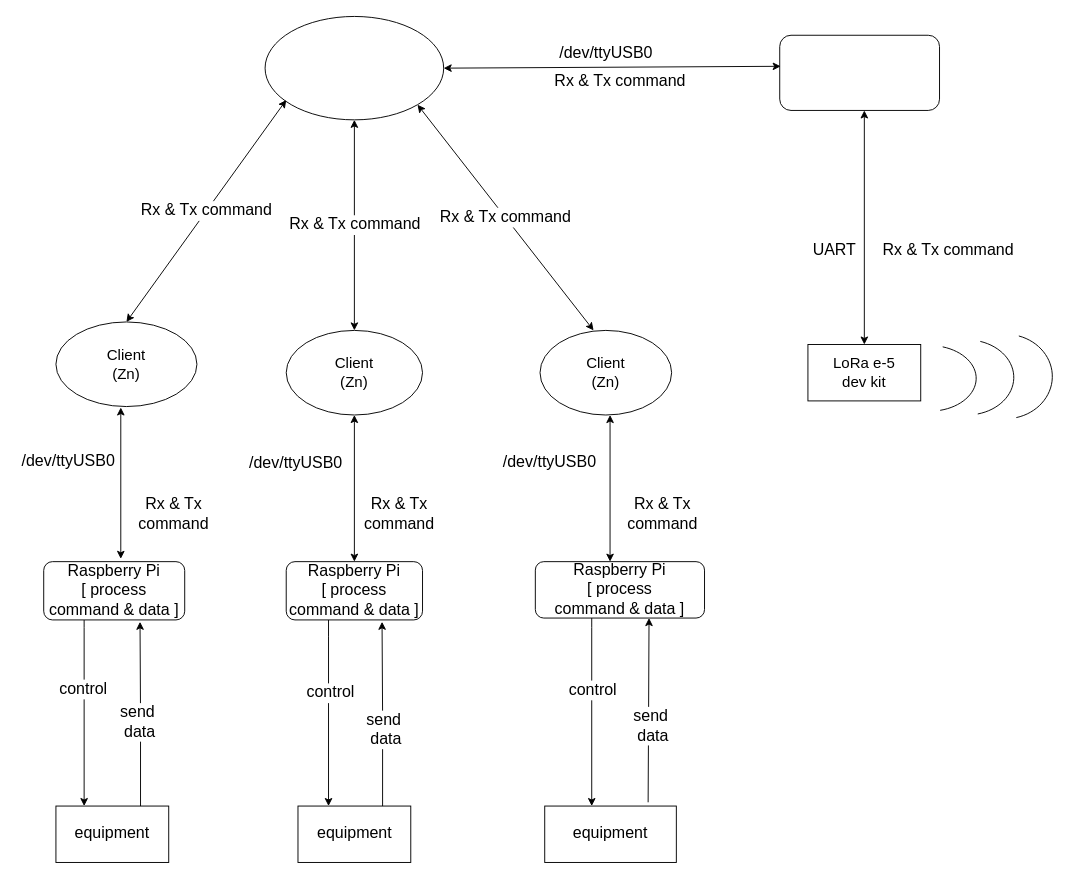
Image size: 1069x879. Some labels were removed from this diagram. Here are the shapes that lost their labels. From the top down, the centre of each, then its label:
pixel 354 68: Server (Z1)
pixel 859 72: Raspberry Pi [ process command ]
